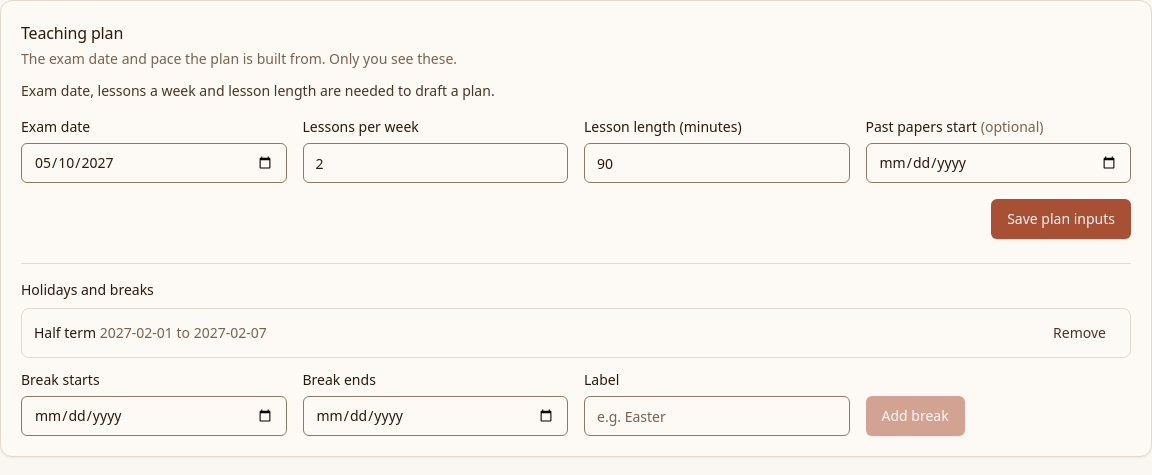
Scenario: removing a break deletes that break
Click the button with aria-label "Remove the Half term break": coordinates (1080, 333) [1041,317,1118,349]
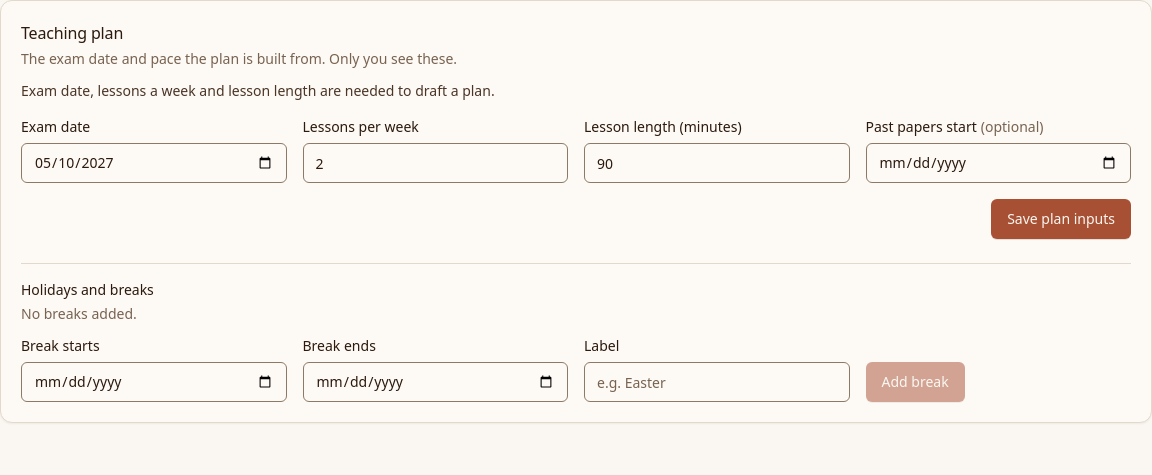
Expected: the text "Half term" is gone
Expected: the text "No breaks added." is shown, [21,304,137,323]
